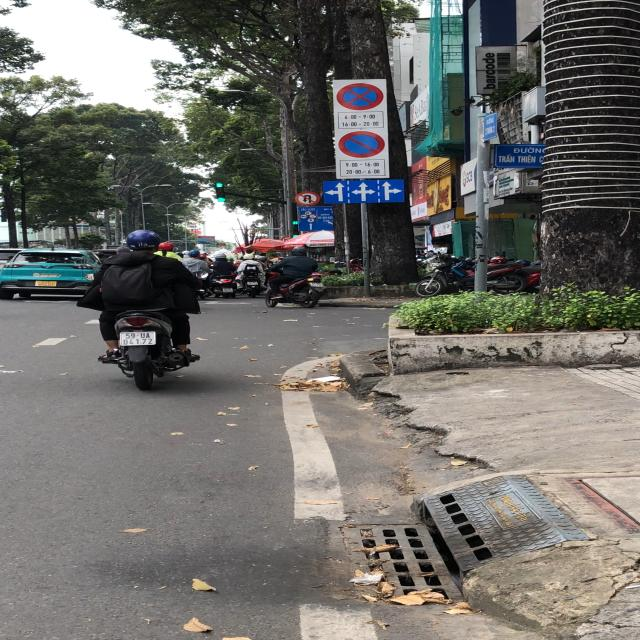Bien bao cam do xe: (335, 128, 389, 160)
Bien bao cam dung xe va do xe: (336, 82, 390, 110)
Bien bao cam quay dau xe: (294, 191, 326, 206)
